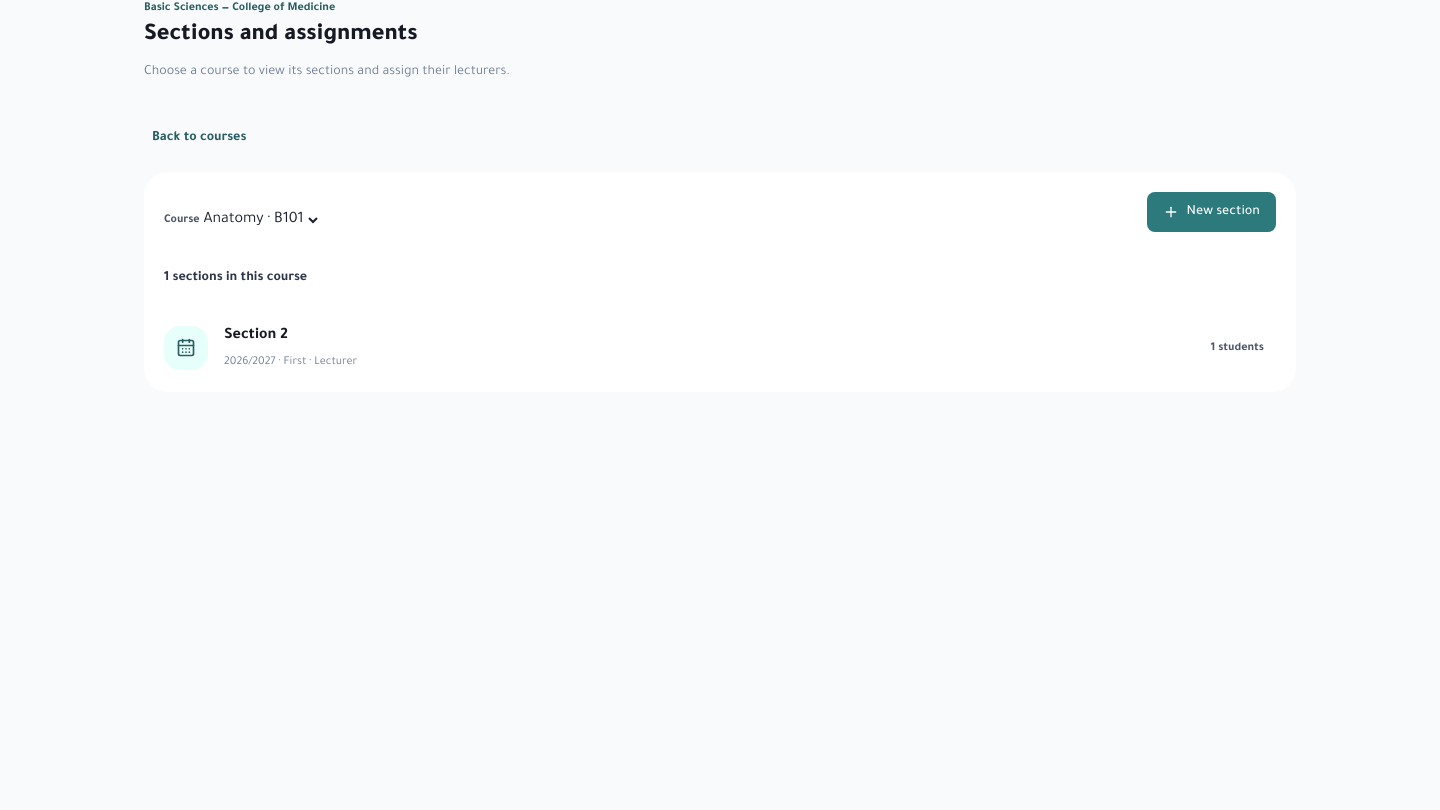
Basic attendance course → section workflow › edits a section in a focused dialog instead of an always-open second panel
Click the button "Section 2 2026/2027 · First · Lecturer 1 students" at (186, 348), box x1=144 y1=304 x2=1296 y2=392
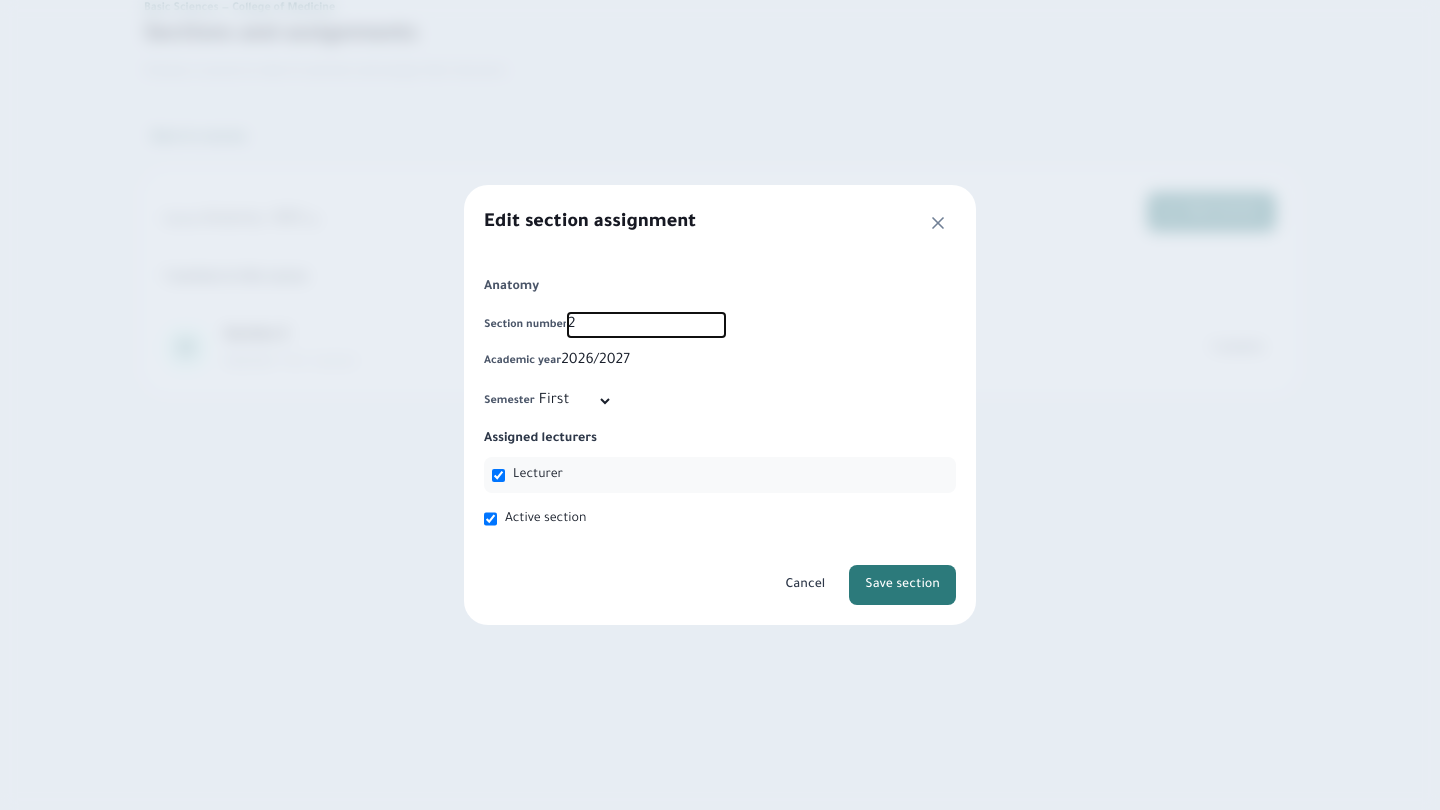
Check: the dialog is shown, box x1=464 y1=185 x2=976 y2=625
Check: the field labelled "Section number" holds "2", box x1=568 y1=313 x2=725 y2=337
Click the button named "Close" at (938, 223), box x1=920 y1=205 x2=956 y2=241
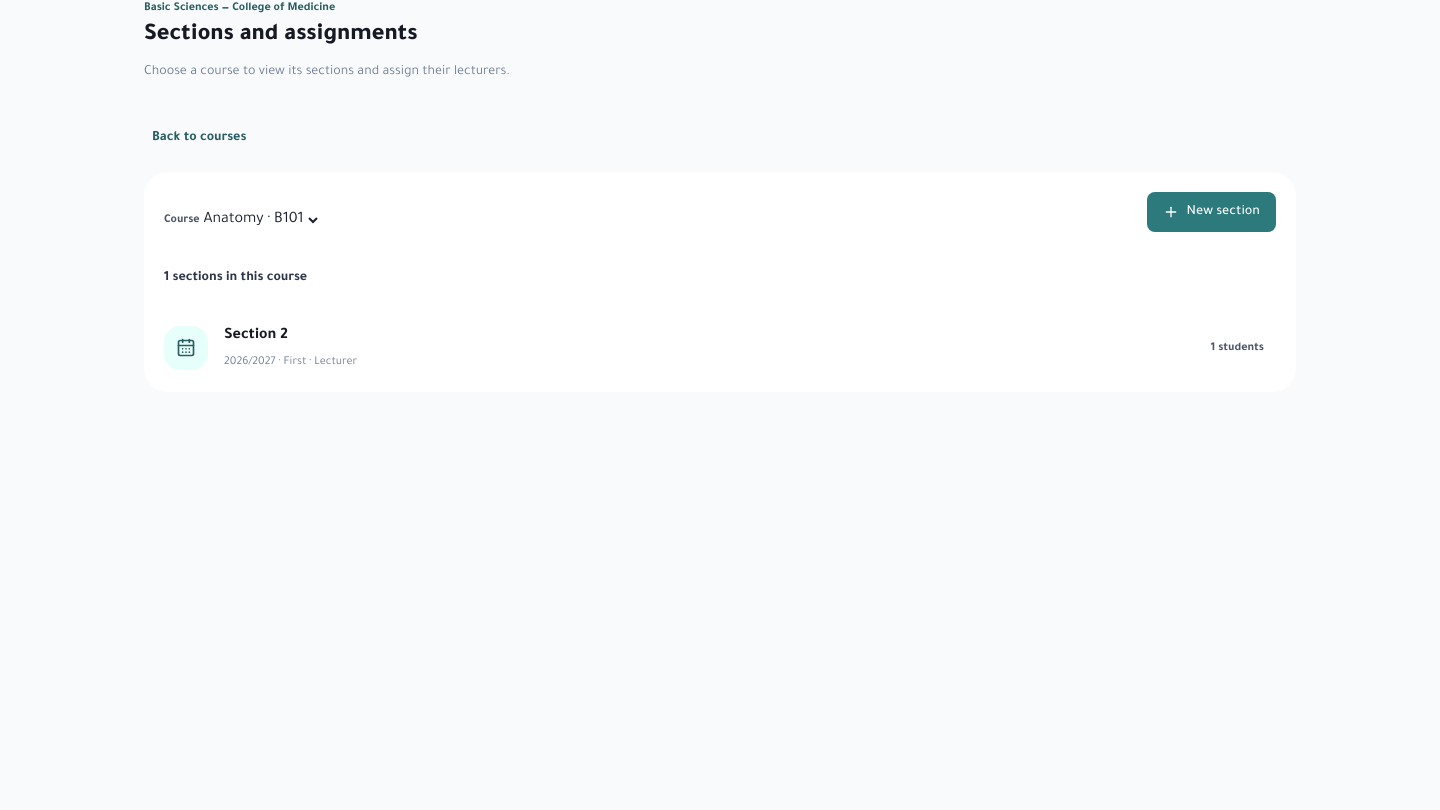
Check: the dialog is gone
